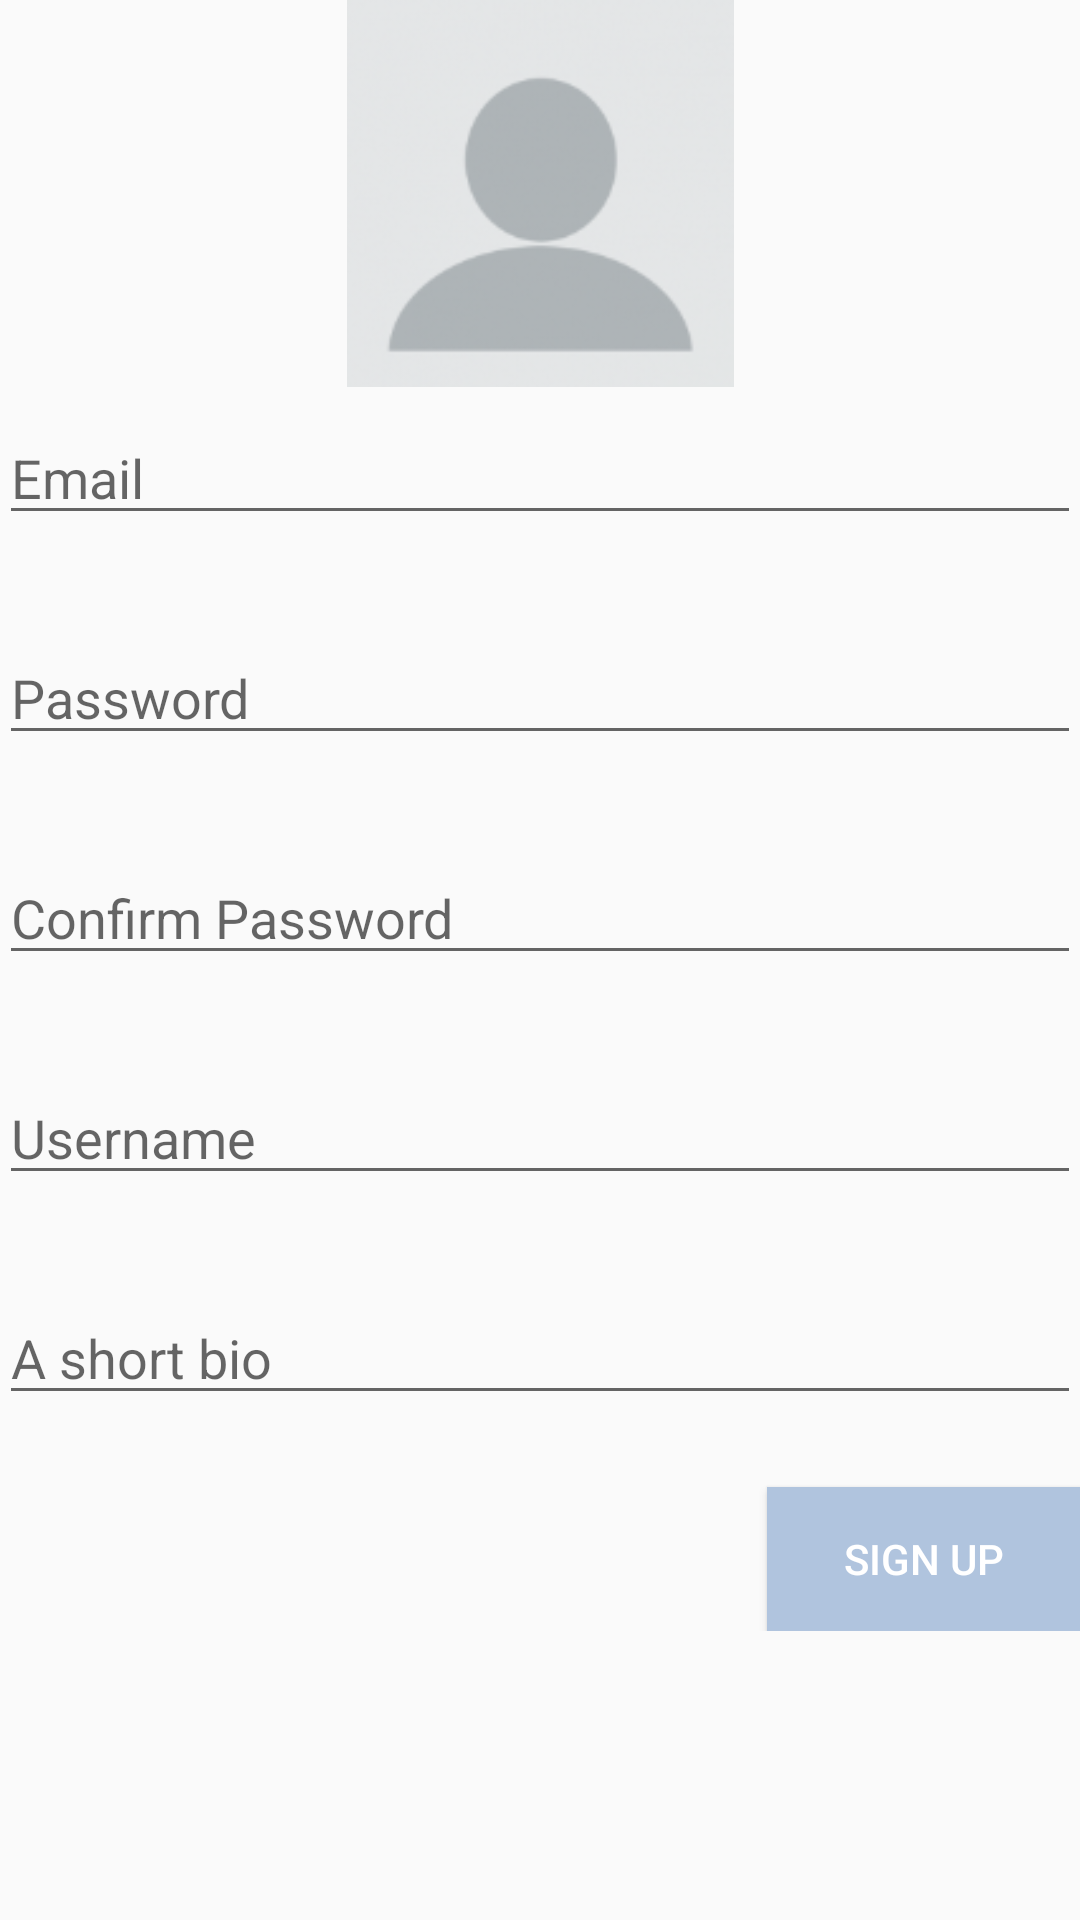

Screen size 1080×1920. Icon name, then its box in pixels as box(x1, y1, x2, y2):
anonymous: box(386, 75, 694, 353)
